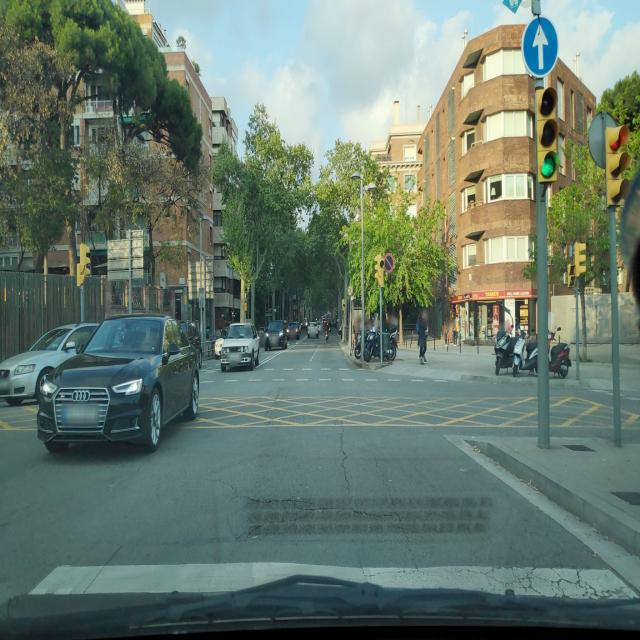bike: (525, 331, 571, 378), (324, 326, 328, 343)
car: (36, 312, 200, 453), (0, 322, 101, 404), (220, 322, 260, 372), (353, 328, 397, 364), (264, 320, 288, 351), (287, 321, 301, 340), (307, 320, 320, 339)
